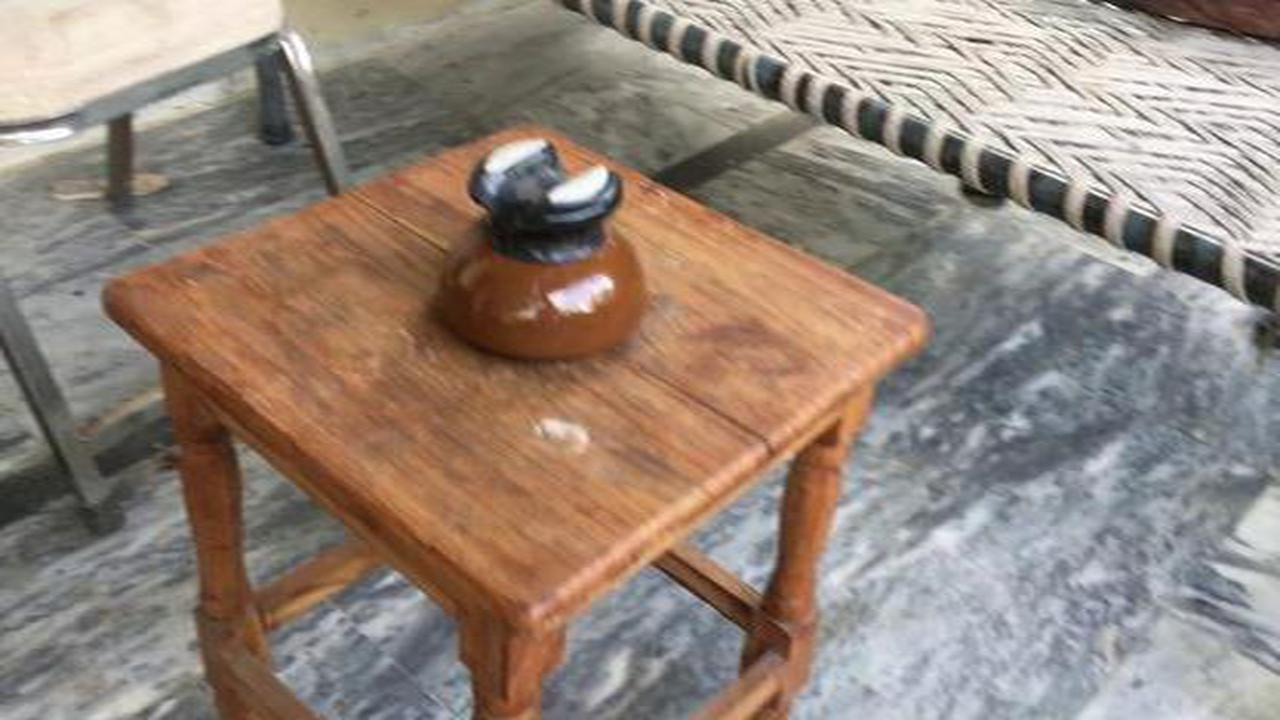insulator_pin: (419, 120, 665, 374)
